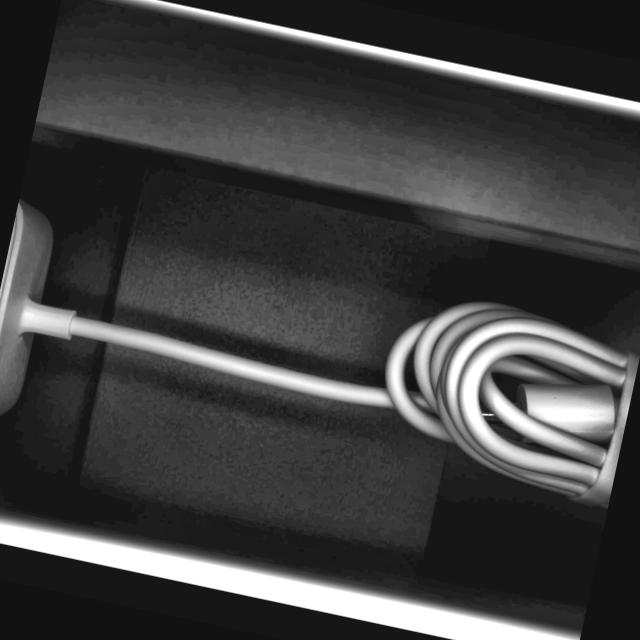Cable: (0, 178, 640, 573)
